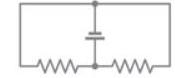Battery: (64, 23, 109, 46)
